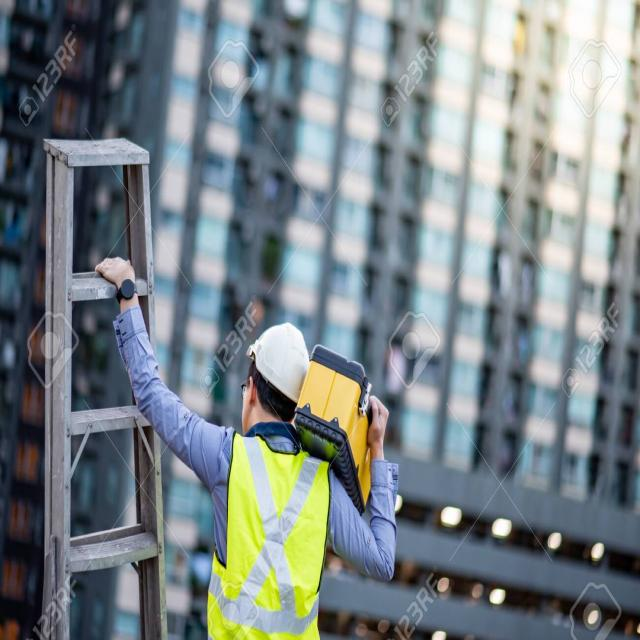helmet: (244, 320, 318, 390)
vest: (217, 413, 312, 640)
